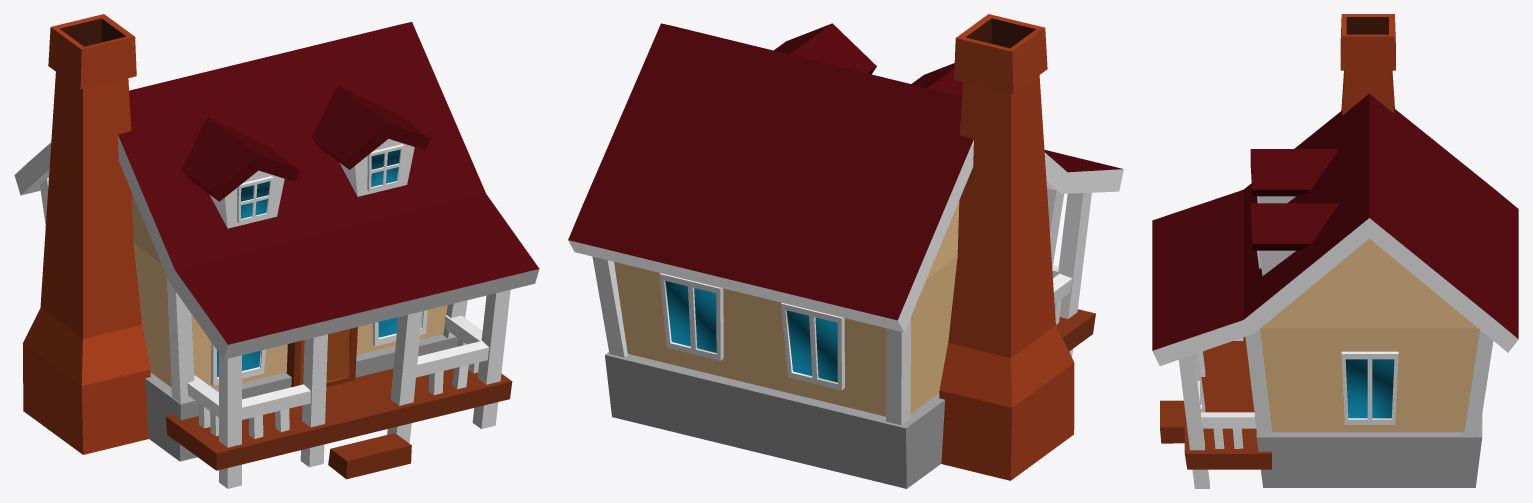
The model's file is Small_House_4.fbx.
3 views of the same model, side by side, from view 1: azimuth 30°, elevation 25°; view 2: azimuth 150°, elevation 25°; view 3: azimuth 270°, elevation 25° (orthographic). The views are drawn at different scales.
Parts seen in each view (by area): view 1: Small_House_Roof, Small_House_Chimney, Small_House_Columns, Small_House_Poarch, Small_House_High_Windows, Small House_Walls, Small_House_Base, Small_House_Windows; view 2: Small_House_Roof, Small_House_Chimney, Small_House_Base, Small House_Walls, Small_House_Windows, Small_House_Columns, Small_House_High_Windows, Small_House_Poarch; view 3: Small_House_Roof, Small House_Walls, Small_House_Base, Small_House_High_Windows, Small_House_Poarch, Small_House_Columns, Small_House_Chimney, Small_House_Windows.
Boxes of the visible parts, bbox=[...] form: Small_House_Roof: bbox=[14, 22, 539, 359]; Small_House_Chimney: bbox=[23, 14, 150, 454]; Small_House_Columns: bbox=[40, 177, 510, 488]; Small_House_Poarch: bbox=[165, 327, 512, 479]; Small_House_High_Windows: bbox=[182, 86, 429, 228]; Small House_Walls: bbox=[131, 192, 447, 389]; Small_House_Base: bbox=[145, 334, 457, 461]; Small_House_Windows: bbox=[210, 310, 427, 385]; Small_House_Roof: bbox=[568, 23, 1123, 332]; Small_House_Chimney: bbox=[939, 14, 1074, 480]; Small_House_Base: bbox=[605, 352, 944, 488]; Small House_Walls: bbox=[614, 201, 959, 416]; Small_House_Windows: bbox=[659, 273, 844, 390]; Small_House_Columns: bbox=[592, 188, 1091, 424]; Small_House_High_Windows: bbox=[774, 23, 962, 96]; Small_House_Poarch: bbox=[1056, 309, 1095, 351]; Small_House_Roof: bbox=[1152, 93, 1518, 365]; Small House_Walls: bbox=[1260, 238, 1479, 432]; Small_House_Base: bbox=[1256, 415, 1482, 487]; Small_House_High_Windows: bbox=[1250, 149, 1337, 275]; Small_House_Poarch: bbox=[1160, 337, 1271, 469]; Small_House_Columns: bbox=[1179, 329, 1493, 488]; Small_House_Chimney: bbox=[1340, 14, 1395, 115]; Small_House_Windows: bbox=[1341, 351, 1398, 424].
Bounding box in the file's own units: 287 × 299 × 294.
